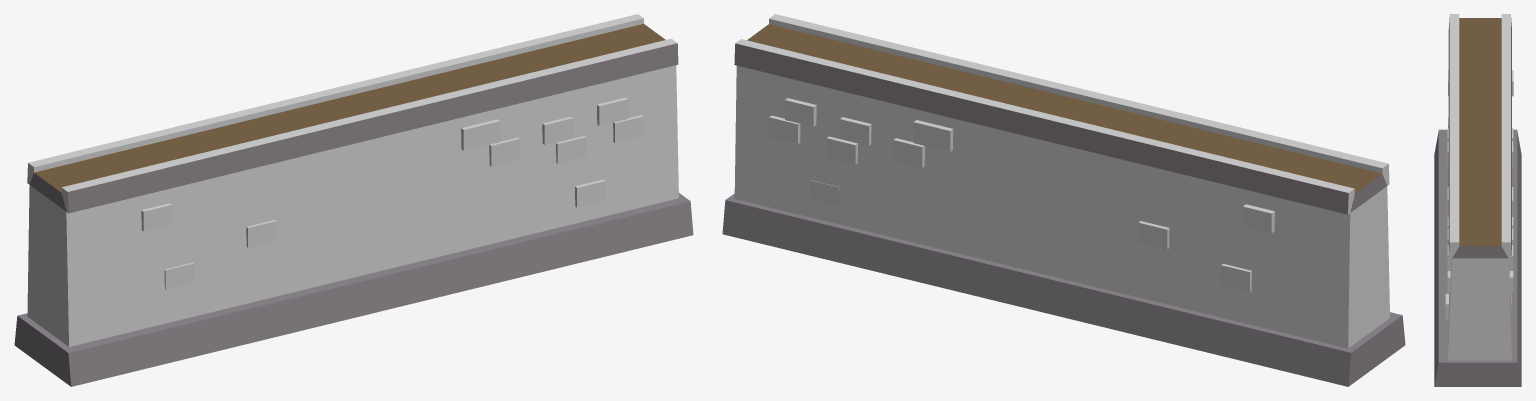
The model's file is Stone_wall.fbx.
3 views of the same model, side by side, from view 1: azimuth 30°, elevation 25°; view 2: azimuth 150°, elevation 25°; view 3: azimuth 270°, elevation 25° (orthographic). The views are drawn at different scales.
Visible parts, largest first — view 1: Wall_SecondAge; view 2: Wall_SecondAge; view 3: Wall_SecondAge.
Boxes of the visible parts, x1,y1,x2,y2 form: Wall_SecondAge: (14,14,693,386); Wall_SecondAge: (722,14,1405,386); Wall_SecondAge: (1434,14,1521,386).
Size of the model in its own units: 156 by 44.59 by 24.67.
